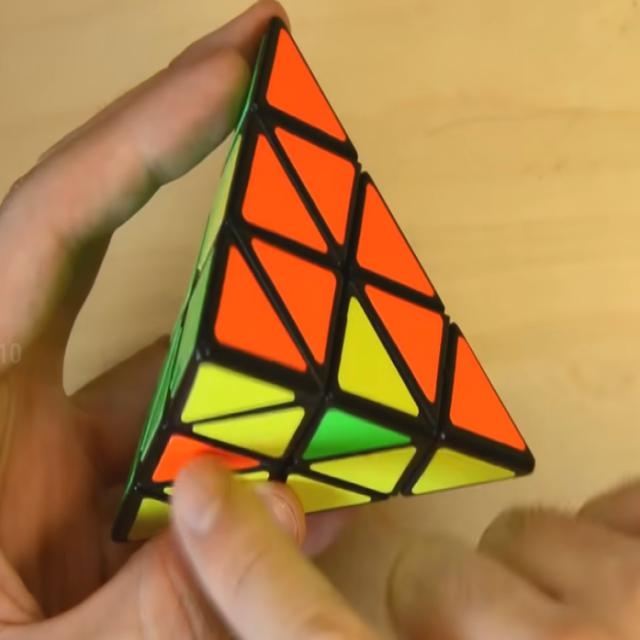Pyraminx: (114, 19, 533, 539)
